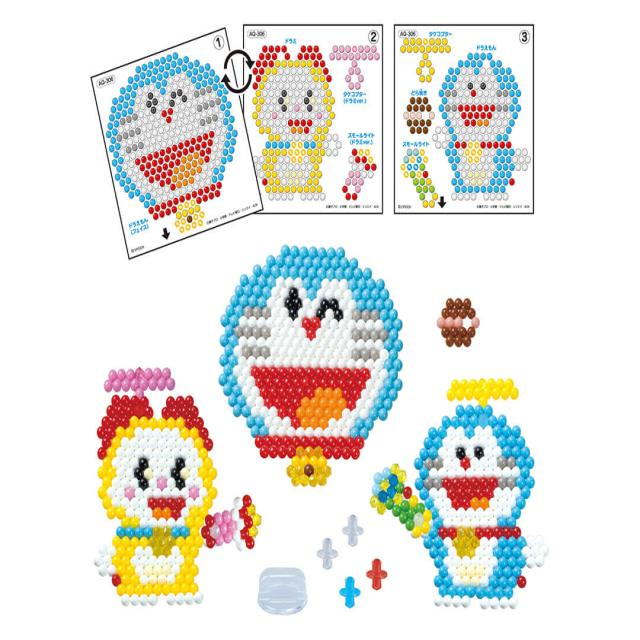doraemon: (204, 232, 412, 492), (90, 49, 244, 250), (407, 397, 547, 576), (431, 39, 543, 177)
